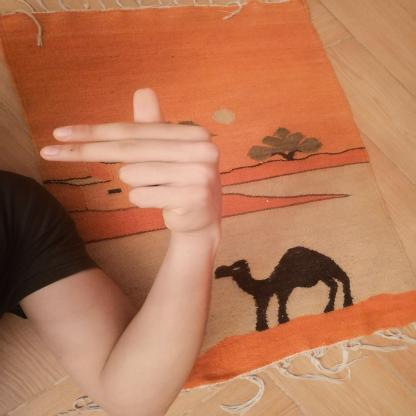GHAYN: (29, 77, 236, 240)
